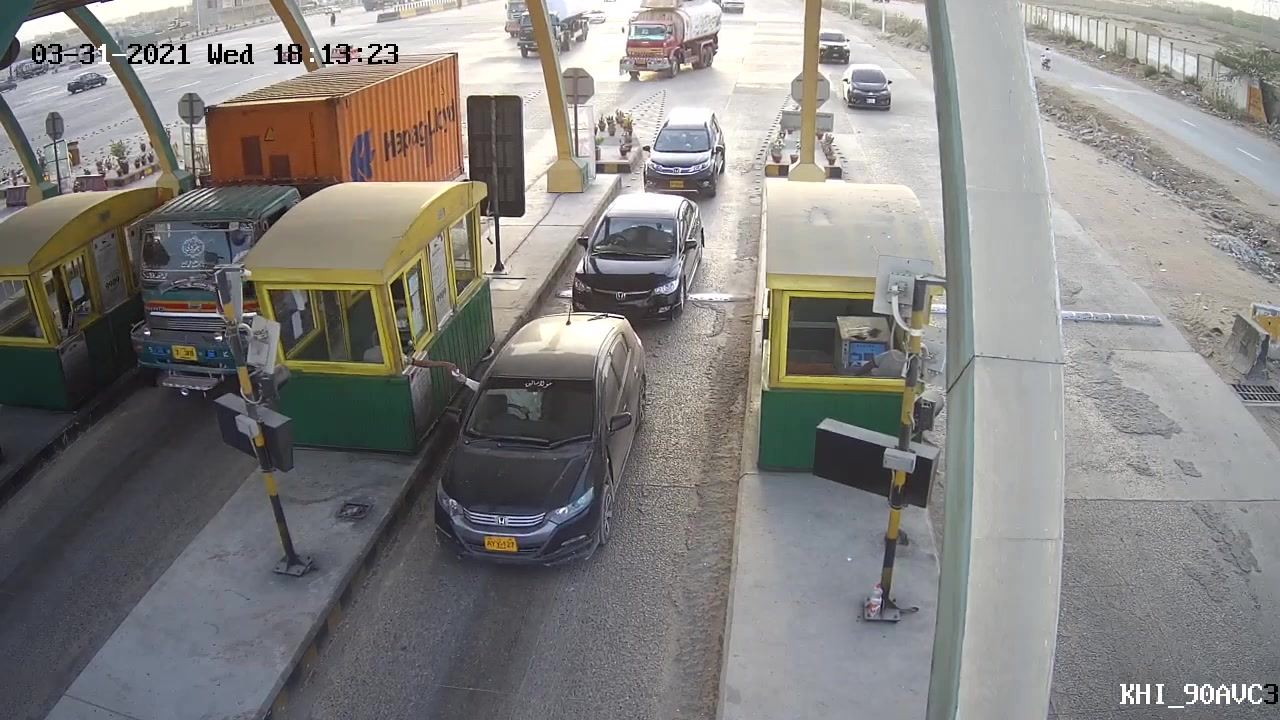F1: (432, 297, 651, 578), (565, 182, 709, 323)
